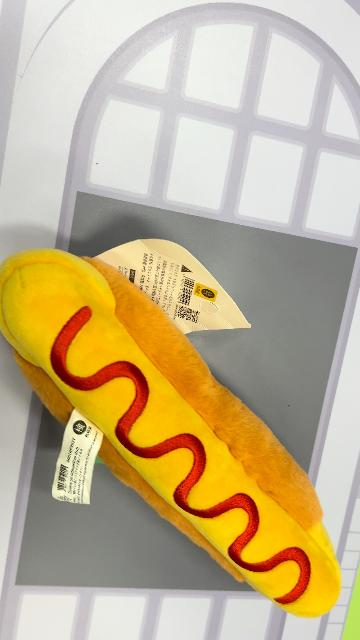hotdog: (2, 246, 342, 620)
